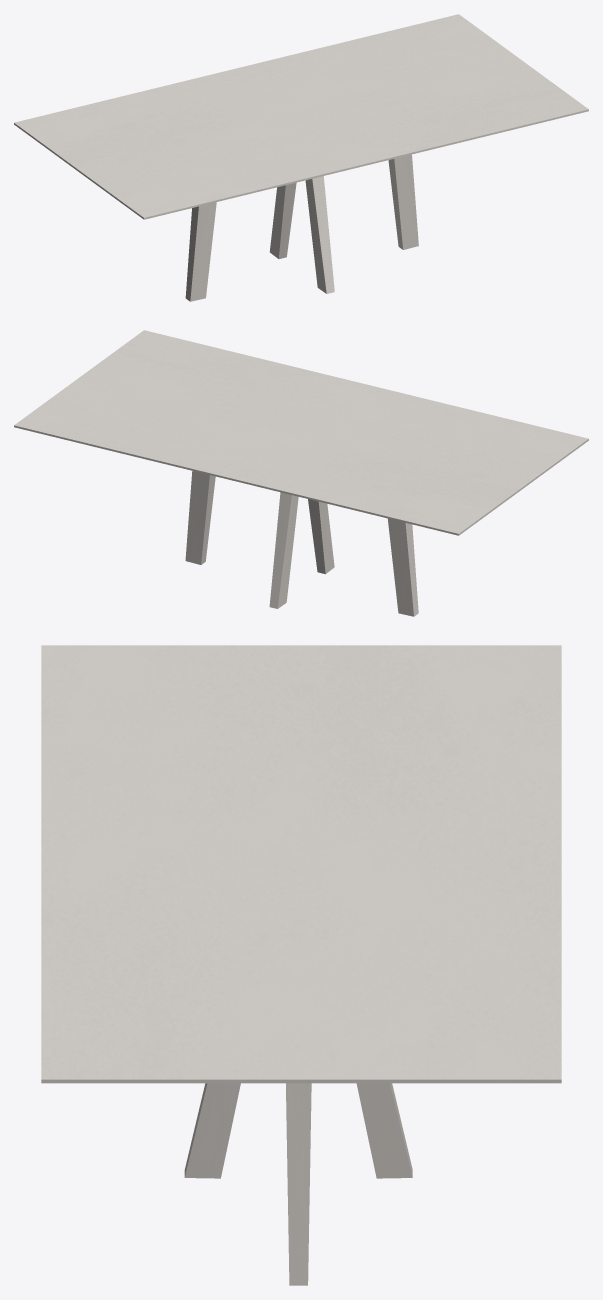
Rendered from pearlwhite_recta_facet_searwalnut.glb.
3 views of the same model, one above another, from view 1: azimuth 30°, elevation 25°; view 2: azimuth 150°, elevation 25°; view 3: azimuth 270°, elevation 25° (orthographic). The views are drawn at different scales.
Visible parts, largest first — view 1: facet_recta, searwalnut; view 2: facet_recta, searwalnut; view 3: facet_recta, searwalnut.
Boxes of the visible parts, x1,y1,x2,y2 form: facet_recta: (14,14,588,219); searwalnut: (185,154,418,301); facet_recta: (14,330,588,535); searwalnut: (185,471,418,616); facet_recta: (41,645,561,1083); searwalnut: (184,1083,412,1285).
Size of the model in its own units: 7.5 by 2.51 by 3.8.
1 material, 1 textured.
